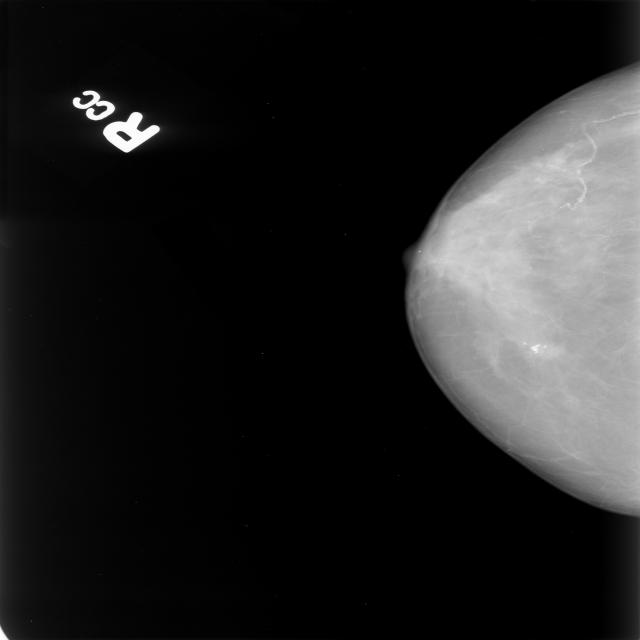normal: (366, 57, 640, 523)
